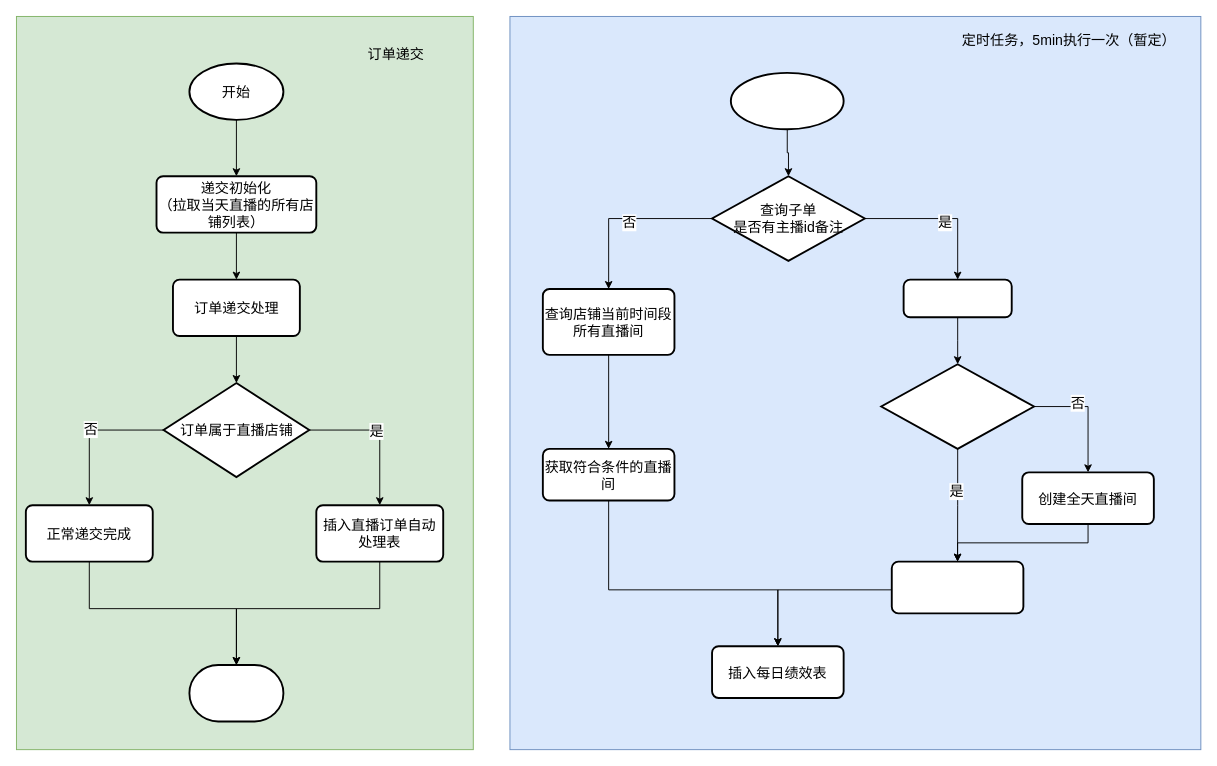
Image size: 1217x766. Some labels were removed from this diagram. Here are the shapes that lost their labels. From the top down, the centre of each, then its label:
pixel 786 100: 开启游标 循环处理
pixel 957 298: 获取主播id
pixel 957 406: 查询主播 当前时间段是否有 直播间
pixel 957 587: 获取直播间id
pixel 236 693: 结束
